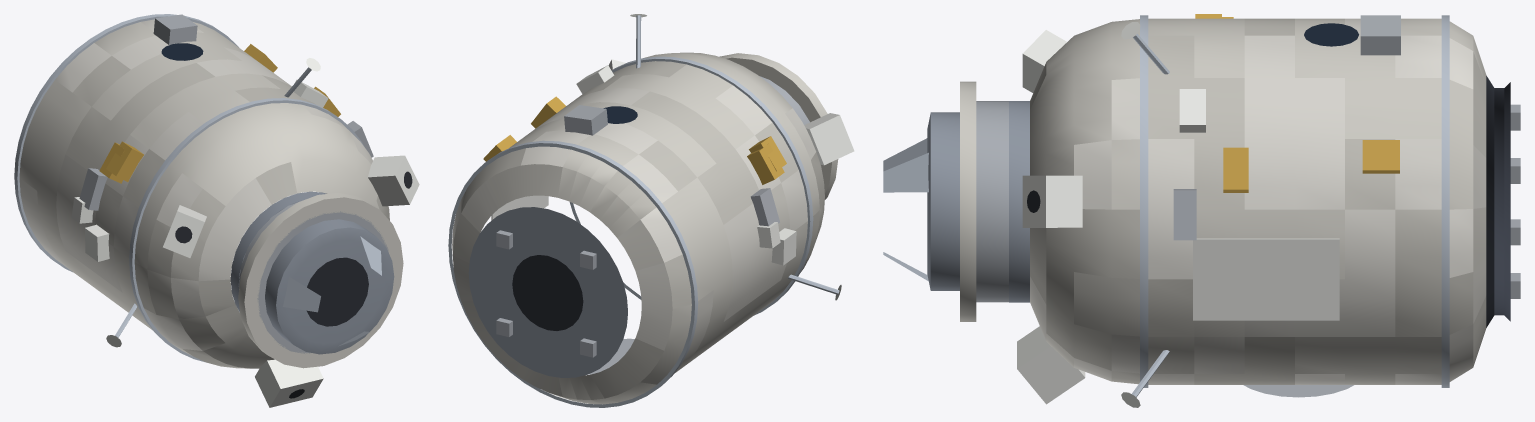
The model's file is shenzhou-orbital.glb.
3 views of the same model, side by side, from view 1: azimuth 30°, elevation 25°; view 2: azimuth 150°, elevation 25°; view 3: azimuth 270°, elevation 25° (orthographic). The views are drawn at different scales.
Parts seen in each view (by area): view 1: body, foil, solar-panel; view 2: body, foil, solar-panel; view 3: body, foil, solar-panel.
Part boxes in pixels (x1,y1,x2,y2): body: (14,14,419,407); foil: (99,44,340,183); solar-panel: (161,43,203,60); body: (448,14,854,407); foil: (483,96,786,184); solar-panel: (603,106,637,123); body: (883,15,1520,407); foil: (1195,14,1399,192); solar-panel: (1304,23,1358,46).
Bounding box in the file's own units: 2.72 × 2.72 × 3.91.
